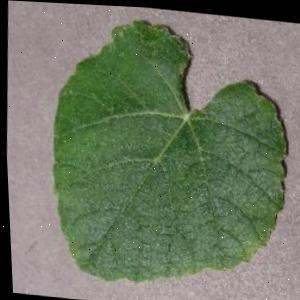Folha: (37, 9, 298, 299)
